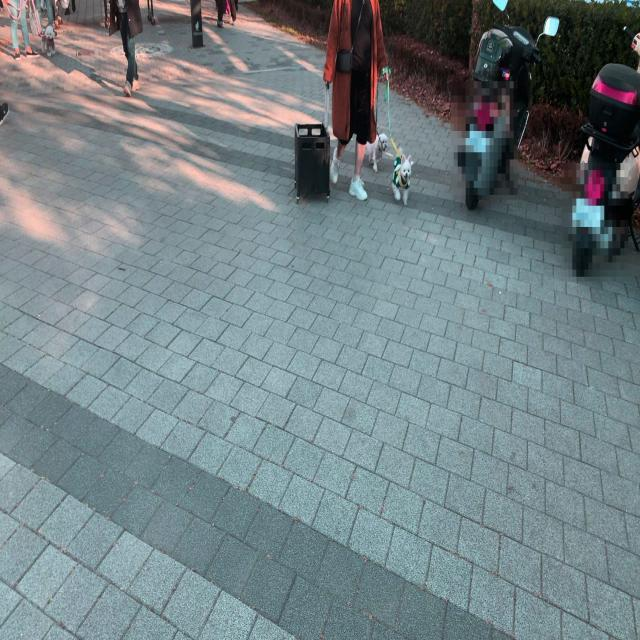Leashed_Dog: (351, 56, 413, 210), (356, 55, 388, 174), (21, 0, 59, 62)
